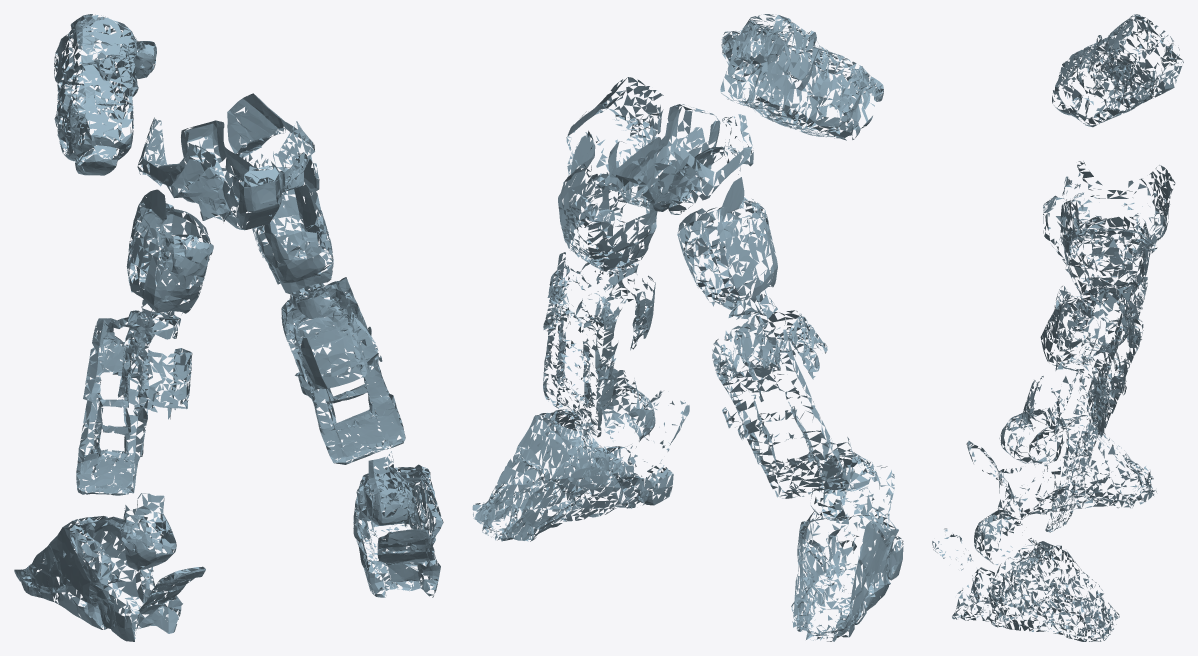
The model's file is dv_volB.glb.
3 renders of one model, left to right at view 1: azimuth 30°, elevation 25°; view 2: azimuth 150°, elevation 25°; view 3: azimuth 270°, elevation 25°, orthographic. The views are drawn at different scales.
Visible parts, largest first — view 1: dv_volB_1; view 2: dv_volB_1; view 3: dv_volB_1.
Part boxes in pixels (bbox=[...]): dv_volB_1: bbox=[14, 14, 443, 641]; dv_volB_1: bbox=[472, 14, 903, 641]; dv_volB_1: bbox=[932, 14, 1183, 641].
Size of the model in its own units: 0.6355 by 0.9165 by 0.4171.
